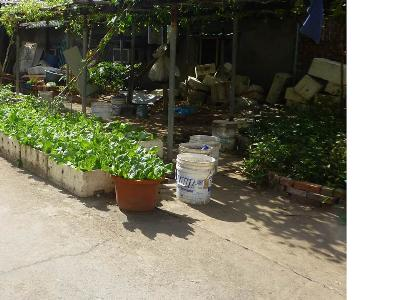bucket: (175, 152, 216, 207), (209, 118, 239, 155)
styrofoam: (47, 157, 114, 198), (305, 57, 345, 84), (20, 144, 48, 179), (292, 74, 325, 102)
